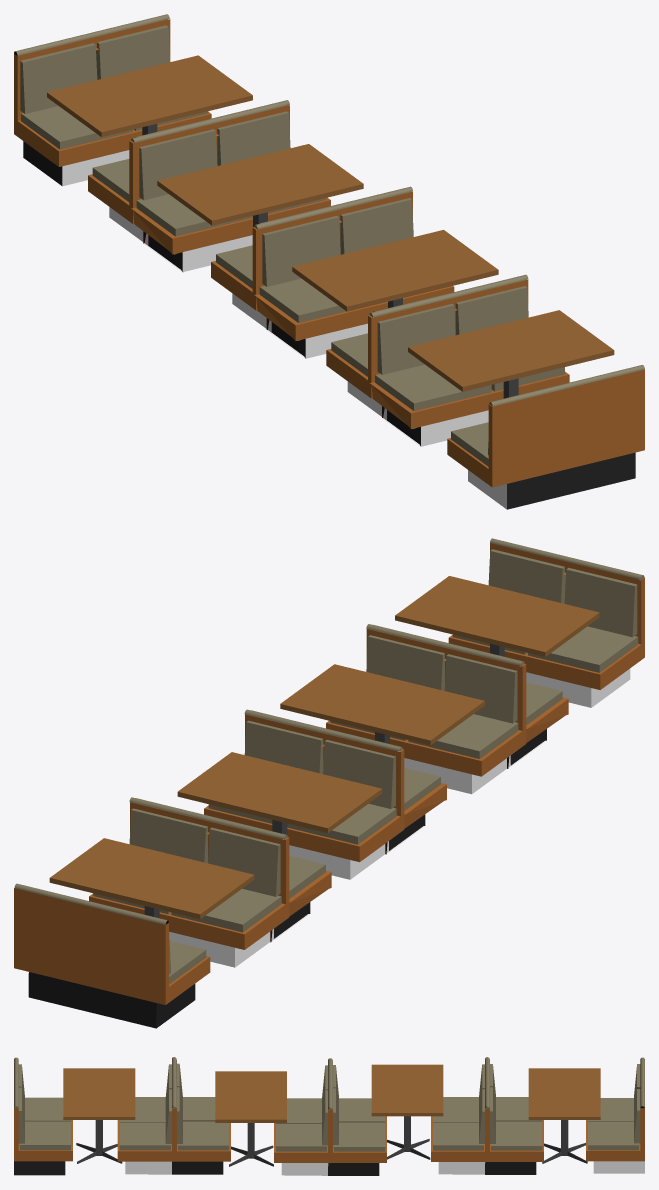
Rendered from tables.obj.
3 views of the same model, one above another, from view 1: azimuth 30°, elevation 25°; view 2: azimuth 150°, elevation 25°; view 3: azimuth 270°, elevation 25° (orthographic). The views are drawn at different scales.
Visible parts, largest first — view 1: Mesh3 Group1 Model, Mesh5 Group1 Model, Mesh4 Group1 Model, Mesh1 Group1 Model, Mesh2 Group1 Model, Mesh25 Model, Mesh22 Model, Mesh23 Model, Mesh24 Model; view 2: Mesh2 Group1 Model, Mesh5 Group1 Model, Mesh1 Group1 Model, Mesh4 Group1 Model, Mesh3 Group1 Model, Mesh22 Model, Mesh25 Model, Mesh23 Model, Mesh24 Model; view 3: Mesh1 Group1 Model, Mesh4 Group1 Model, Mesh5 Group1 Model, Mesh3 Group1 Model, Mesh2 Group1 Model, Mesh22 Model, Mesh23 Model, Mesh25 Model, Mesh24 Model.
Boxes of the visible parts, x1,y1,x2,y2 form: Mesh3 Group1 Model: (447, 365, 644, 509); Mesh5 Group1 Model: (326, 274, 569, 446); Mesh4 Group1 Model: (211, 186, 454, 358); Mesh1 Group1 Model: (88, 100, 330, 272); Mesh2 Group1 Model: (14, 14, 211, 186); Mesh25 Model: (408, 310, 614, 398); Mesh22 Model: (157, 144, 363, 227); Mesh23 Model: (47, 55, 252, 137); Mesh24 Model: (292, 230, 498, 311); Mesh2 Group1 Model: (14, 883, 210, 1028); Mesh5 Group1 Model: (326, 624, 568, 794); Mesh1 Group1 Model: (89, 797, 331, 967); Mesh4 Group1 Model: (204, 709, 446, 879); Mesh3 Group1 Model: (448, 538, 644, 707); Mesh22 Model: (177, 752, 382, 834); Mesh25 Model: (395, 576, 599, 656); Mesh23 Model: (49, 838, 254, 919); Mesh24 Model: (280, 664, 484, 745); Mesh1 Group1 Model: (431, 1057, 543, 1174); Mesh4 Group1 Model: (274, 1058, 386, 1175); Mesh5 Group1 Model: (117, 1057, 230, 1174); Mesh3 Group1 Model: (14, 1057, 72, 1175); Mesh2 Group1 Model: (586, 1057, 644, 1173); Mesh22 Model: (371, 1064, 443, 1151); Mesh23 Model: (528, 1068, 600, 1155); Mesh25 Model: (63, 1068, 135, 1155); Mesh24 Model: (215, 1071, 286, 1158).
Size of the model in its own units: 1.36 by 0.8648 by 6.7.
